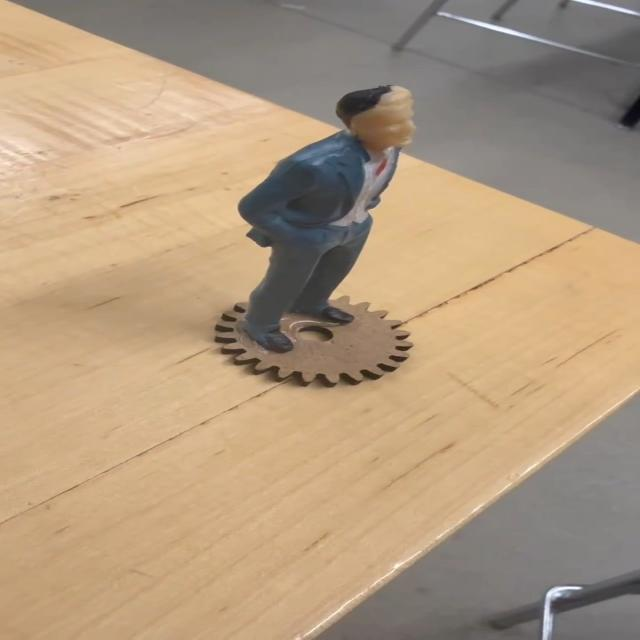Authorized: (242, 71, 424, 356)
